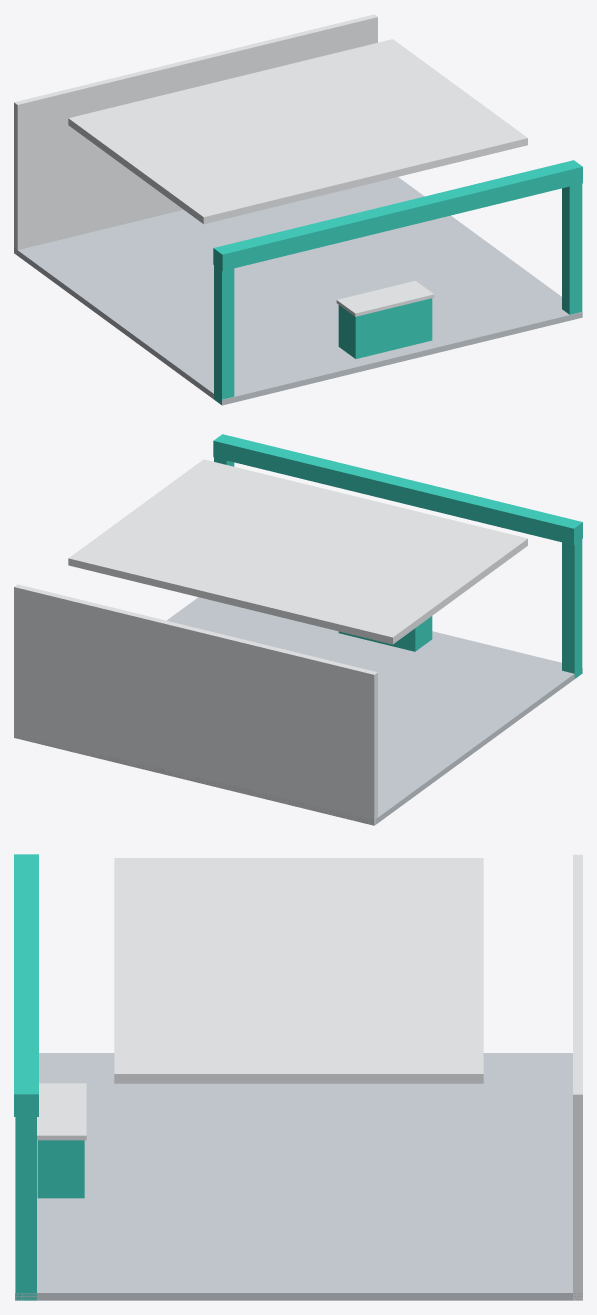
The picture shows the model from 3 angles, top to bottom: view 1: azimuth 30°, elevation 25°; view 2: azimuth 150°, elevation 25°; view 3: azimuth 270°, elevation 25°; orthographic projection. The views are drawn at different scales.
Parts seen in each view (by area): view 1: Exhibition Booth Concept; view 2: Exhibition Booth Concept; view 3: Exhibition Booth Concept.
Part boxes in pixels (x1=…): Exhibition Booth Concept: x1=14, y1=14, x2=582, y2=405; Exhibition Booth Concept: x1=14, y1=434, x2=582, y2=825; Exhibition Booth Concept: x1=14, y1=854, x2=582, y2=1300.
Bounding box in the file's own units: 8 × 3.34 × 8.01.
